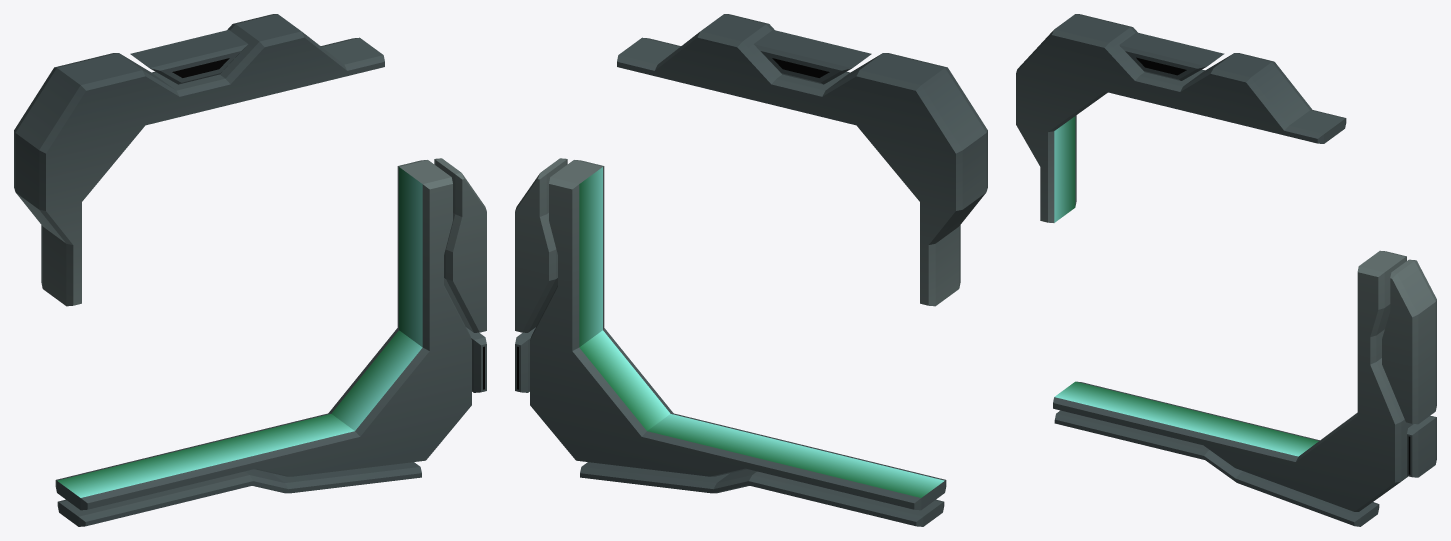
The model's file is MarcoTutoFLotante01.fbx.
The picture shows the model from 3 angles, left to right: view 1: azimuth 30°, elevation 25°; view 2: azimuth 150°, elevation 25°; view 3: azimuth 330°, elevation 25°; orthographic projection. The views are drawn at different scales.
Visible parts, largest first — view 1: Object039, Box040; view 2: Object039, Box040; view 3: Object039, Box040.
Part boxes in pixels (x1,y1,x2,y2): Object039: (55, 158, 486, 526); Box040: (14, 14, 384, 306); Object039: (515, 158, 946, 526); Box040: (617, 14, 987, 306); Object039: (1053, 250, 1436, 526); Box040: (1016, 14, 1346, 222).
Bounding box in the file's own units: 25.81 × 26.22 × 3.19.
Materials: 2 (1 with a texture image).
